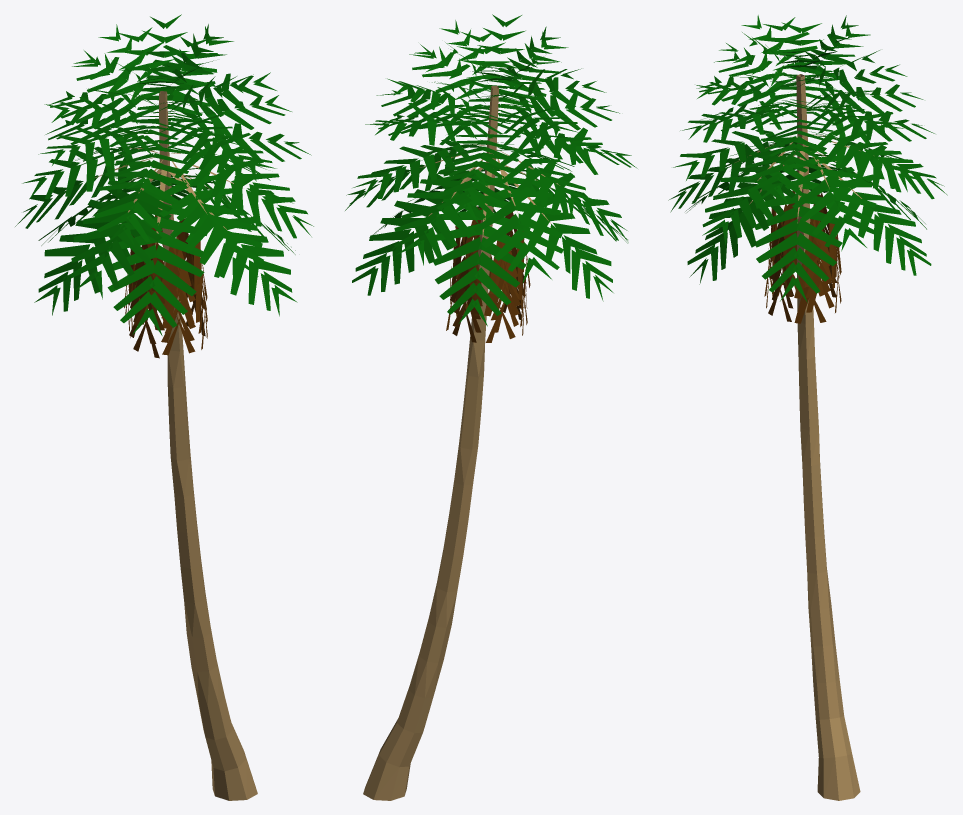
The model's file is Palm4LOD1.FBX.
3 renders of one model, left to right at view 1: azimuth 30°, elevation 25°; view 2: azimuth 150°, elevation 25°; view 3: azimuth 270°, elevation 25°, orthographic. The views are drawn at different scales.
Parts seen in each view (by area): view 1: Palm4_2, Palm4_1, Palm4_3; view 2: Palm4_2, Palm4_1, Palm4_3; view 3: Palm4_2, Palm4_1, Palm4_3.
Boxes of the visible parts, left/top/right/bottom form: Palm4_2: left=15, top=14, right=313, bottom=335; Palm4_1: left=159, top=91, right=257, bottom=800; Palm4_3: left=124, top=215, right=207, bottom=358; Palm4_2: left=345, top=14, right=637, bottom=326; Palm4_1: left=363, top=85, right=498, bottom=800; Palm4_3: left=446, top=206, right=530, bottom=342; Palm4_2: left=668, top=15, right=947, bottom=302; Palm4_1: left=796, top=74, right=860, bottom=800; Palm4_3: left=764, top=190, right=841, bottom=323.
Size of the model in its own units: 122 by 365 by 128.
